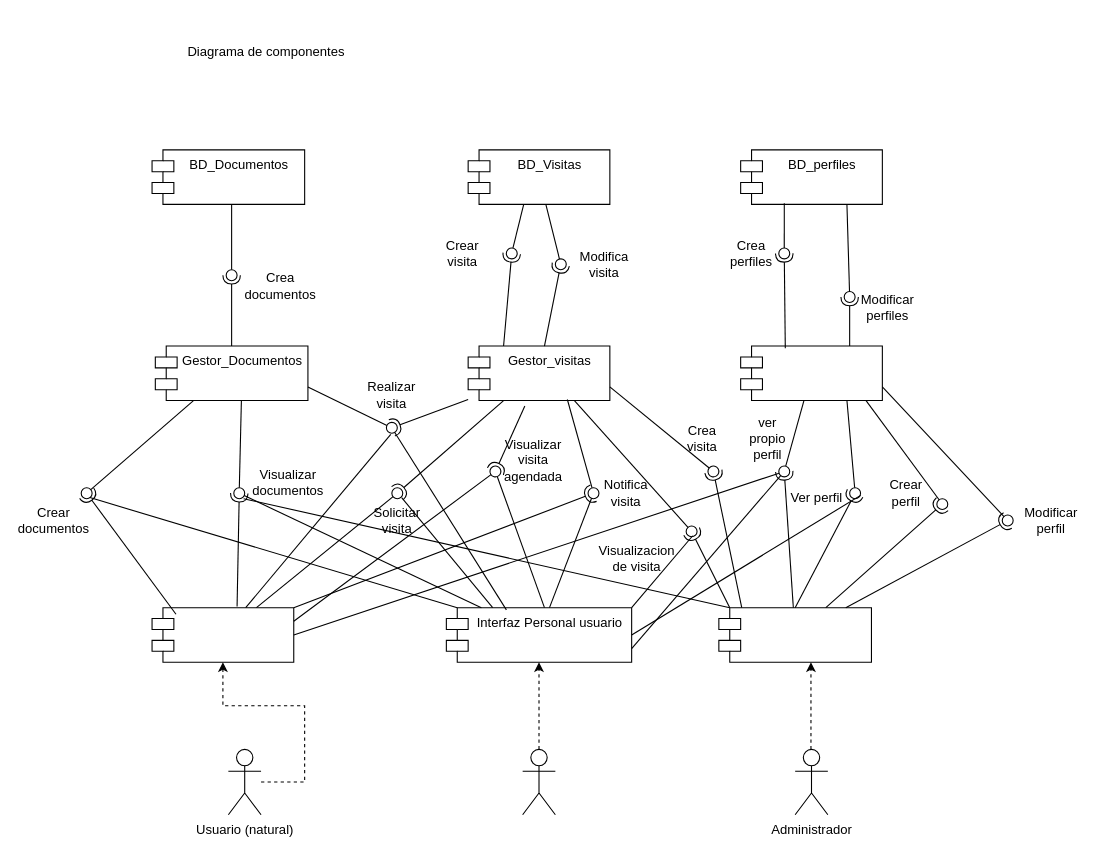
The diagram is 1098 pixels wide and 856 high, and some of its shapes have lost their labels. Each missing label, with the box of its shape:
Gestor_perfiles: (740, 345, 882, 401)
Interfaz administrador: (718, 607, 871, 662)
Interfaz usuario: (151, 607, 294, 662)
Personal (usuario): (522, 748, 555, 815)
